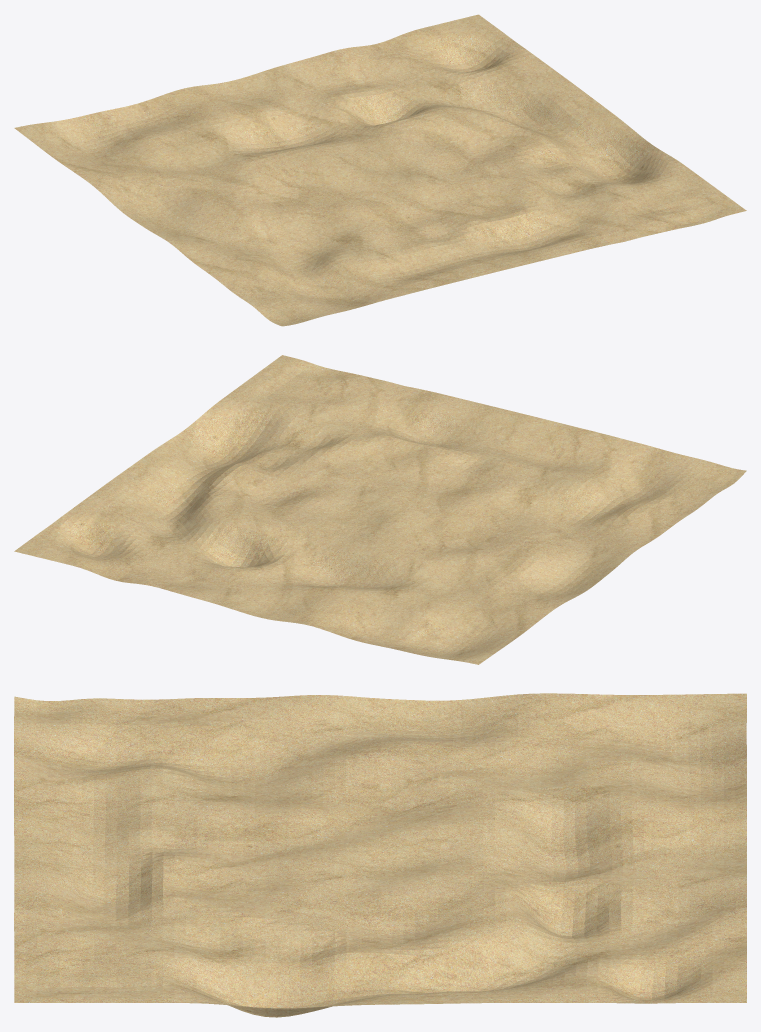
Rendered from bigsandylandscape.obj.
3 views of the same model, one above another, from view 1: azimuth 30°, elevation 25°; view 2: azimuth 150°, elevation 25°; view 3: azimuth 270°, elevation 25° (orthographic). The views are drawn at different scales.
Parts seen in each view (by area): view 1: Grid.001; view 2: Grid.001; view 3: Grid.001.
Part boxes in pixels (left/top/right/bottom): Grid.001: left=14, top=14, right=746, bottom=326; Grid.001: left=14, top=355, right=746, bottom=664; Grid.001: left=14, top=693, right=746, bottom=1017.
Size of the model in its own units: 100 by 5.36 by 100.
Materials: 1 (1 with a texture image).
